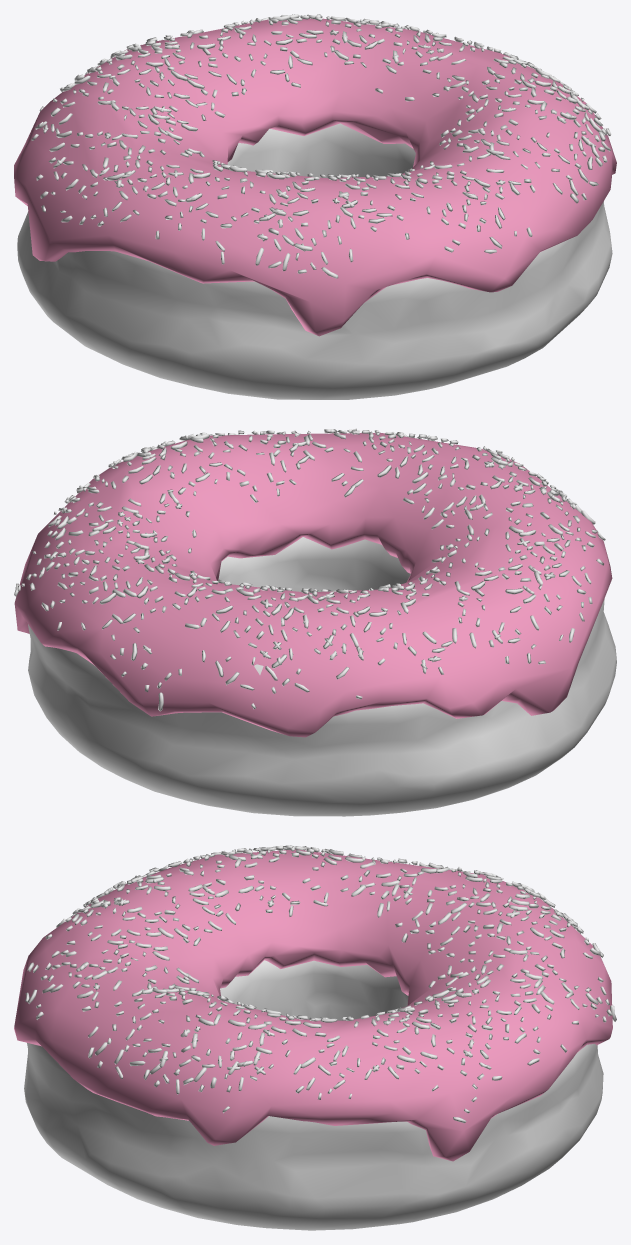
Rendered from donut2.fbx.
3 views of the same model, one above another, from view 1: azimuth 30°, elevation 25°; view 2: azimuth 150°, elevation 25°; view 3: azimuth 270°, elevation 25° (orthographic).
Visible parts, largest first — view 1: Icing, Donut, Sprinkles; view 2: Icing, Donut, Sprinkles; view 3: Icing, Donut, Sprinkles.
Boxes of the visible parts, <box> form: Icing: <box>14,18,616,336</box>; Donut: <box>17,123,612,399</box>; Sprinkles: <box>31,14,611,278</box>; Icing: <box>14,432,612,737</box>; Donut: <box>28,537,616,816</box>; Sprinkles: <box>14,428,605,711</box>; Icing: <box>14,849,612,1161</box>; Donut: <box>24,932,603,1230</box>; Sprinkles: <box>25,845,616,1123</box>.
Bounding box in the file's own units: 22.44 × 8.5 × 22.99.
